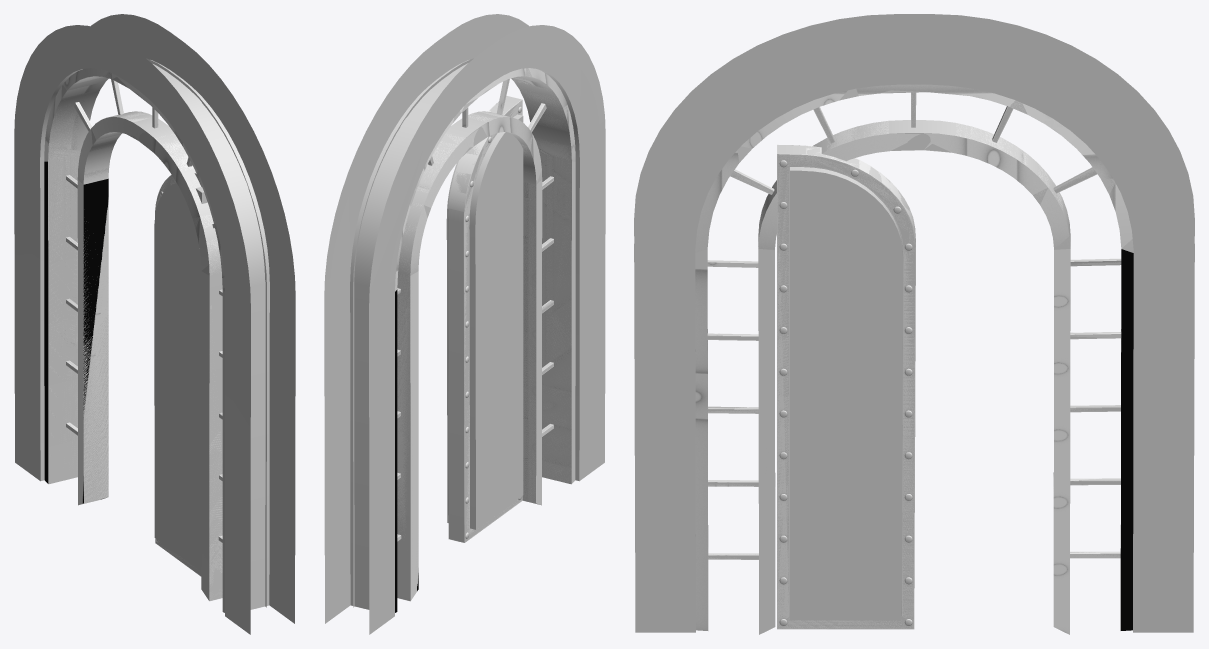
Rendered from door.fbx.
The picture shows the model from 3 angles, left to right: view 1: azimuth 30°, elevation 25°; view 2: azimuth 150°, elevation 25°; view 3: azimuth 270°, elevation 25°; orthographic projection. The views are drawn at different scales.
Parts seen in each view (by area): view 1: archway.009, arch, arches, door.001, bars; view 2: archway.009, arches, arch, door.001, door.003, door, bars; view 3: archway.009, door.001, arch, door, door.003, arches, bars.
Part boxes in pixels (x1=…): archway.009: x1=14, y1=14, x2=295, y2=634; arch: x1=44, y1=68, x2=224, y2=612; arches: x1=48, y1=58, x2=266, y2=607; door.001: x1=154, y1=183, x2=207, y2=571; bars: x1=66, y1=79, x2=222, y2=542; archway.009: x1=324, y1=14, x2=605, y2=634; arches: x1=353, y1=58, x2=575, y2=607; arch: x1=395, y1=68, x2=575, y2=612; door.001: x1=446, y1=114, x2=523, y2=529; door.003: x1=448, y1=96, x2=522, y2=542; door: x1=448, y1=95, x2=522, y2=542; bars: x1=397, y1=79, x2=553, y2=537; archway.009: x1=634, y1=14, x2=1194, y2=632; door.001: x1=790, y1=167, x2=902, y2=620; arch: x1=695, y1=84, x2=1133, y2=634; door: x1=777, y1=144, x2=914, y2=629; door.003: x1=777, y1=145, x2=915, y2=628; arches: x1=703, y1=88, x2=1133, y2=634; bars: x1=707, y1=92, x2=1121, y2=559.
Bounding box in the file's own units: 39.21 × 419 × 354.
Materials: 3 (1 with a texture image).
